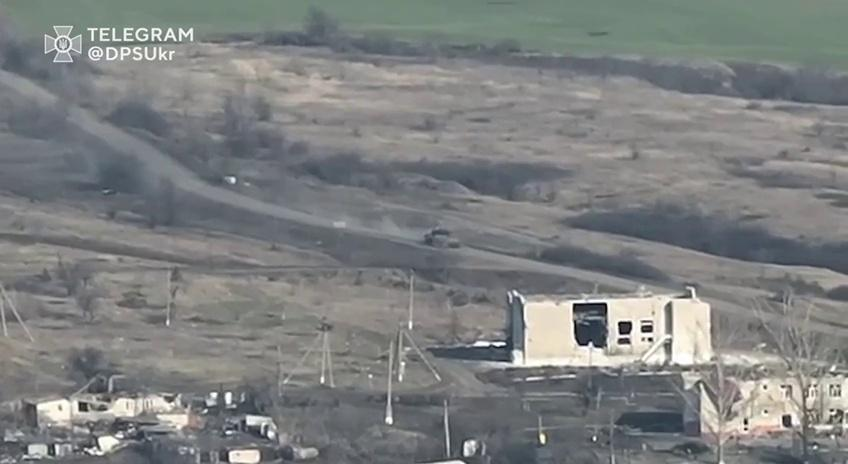vehicle: (423, 228, 462, 249)
